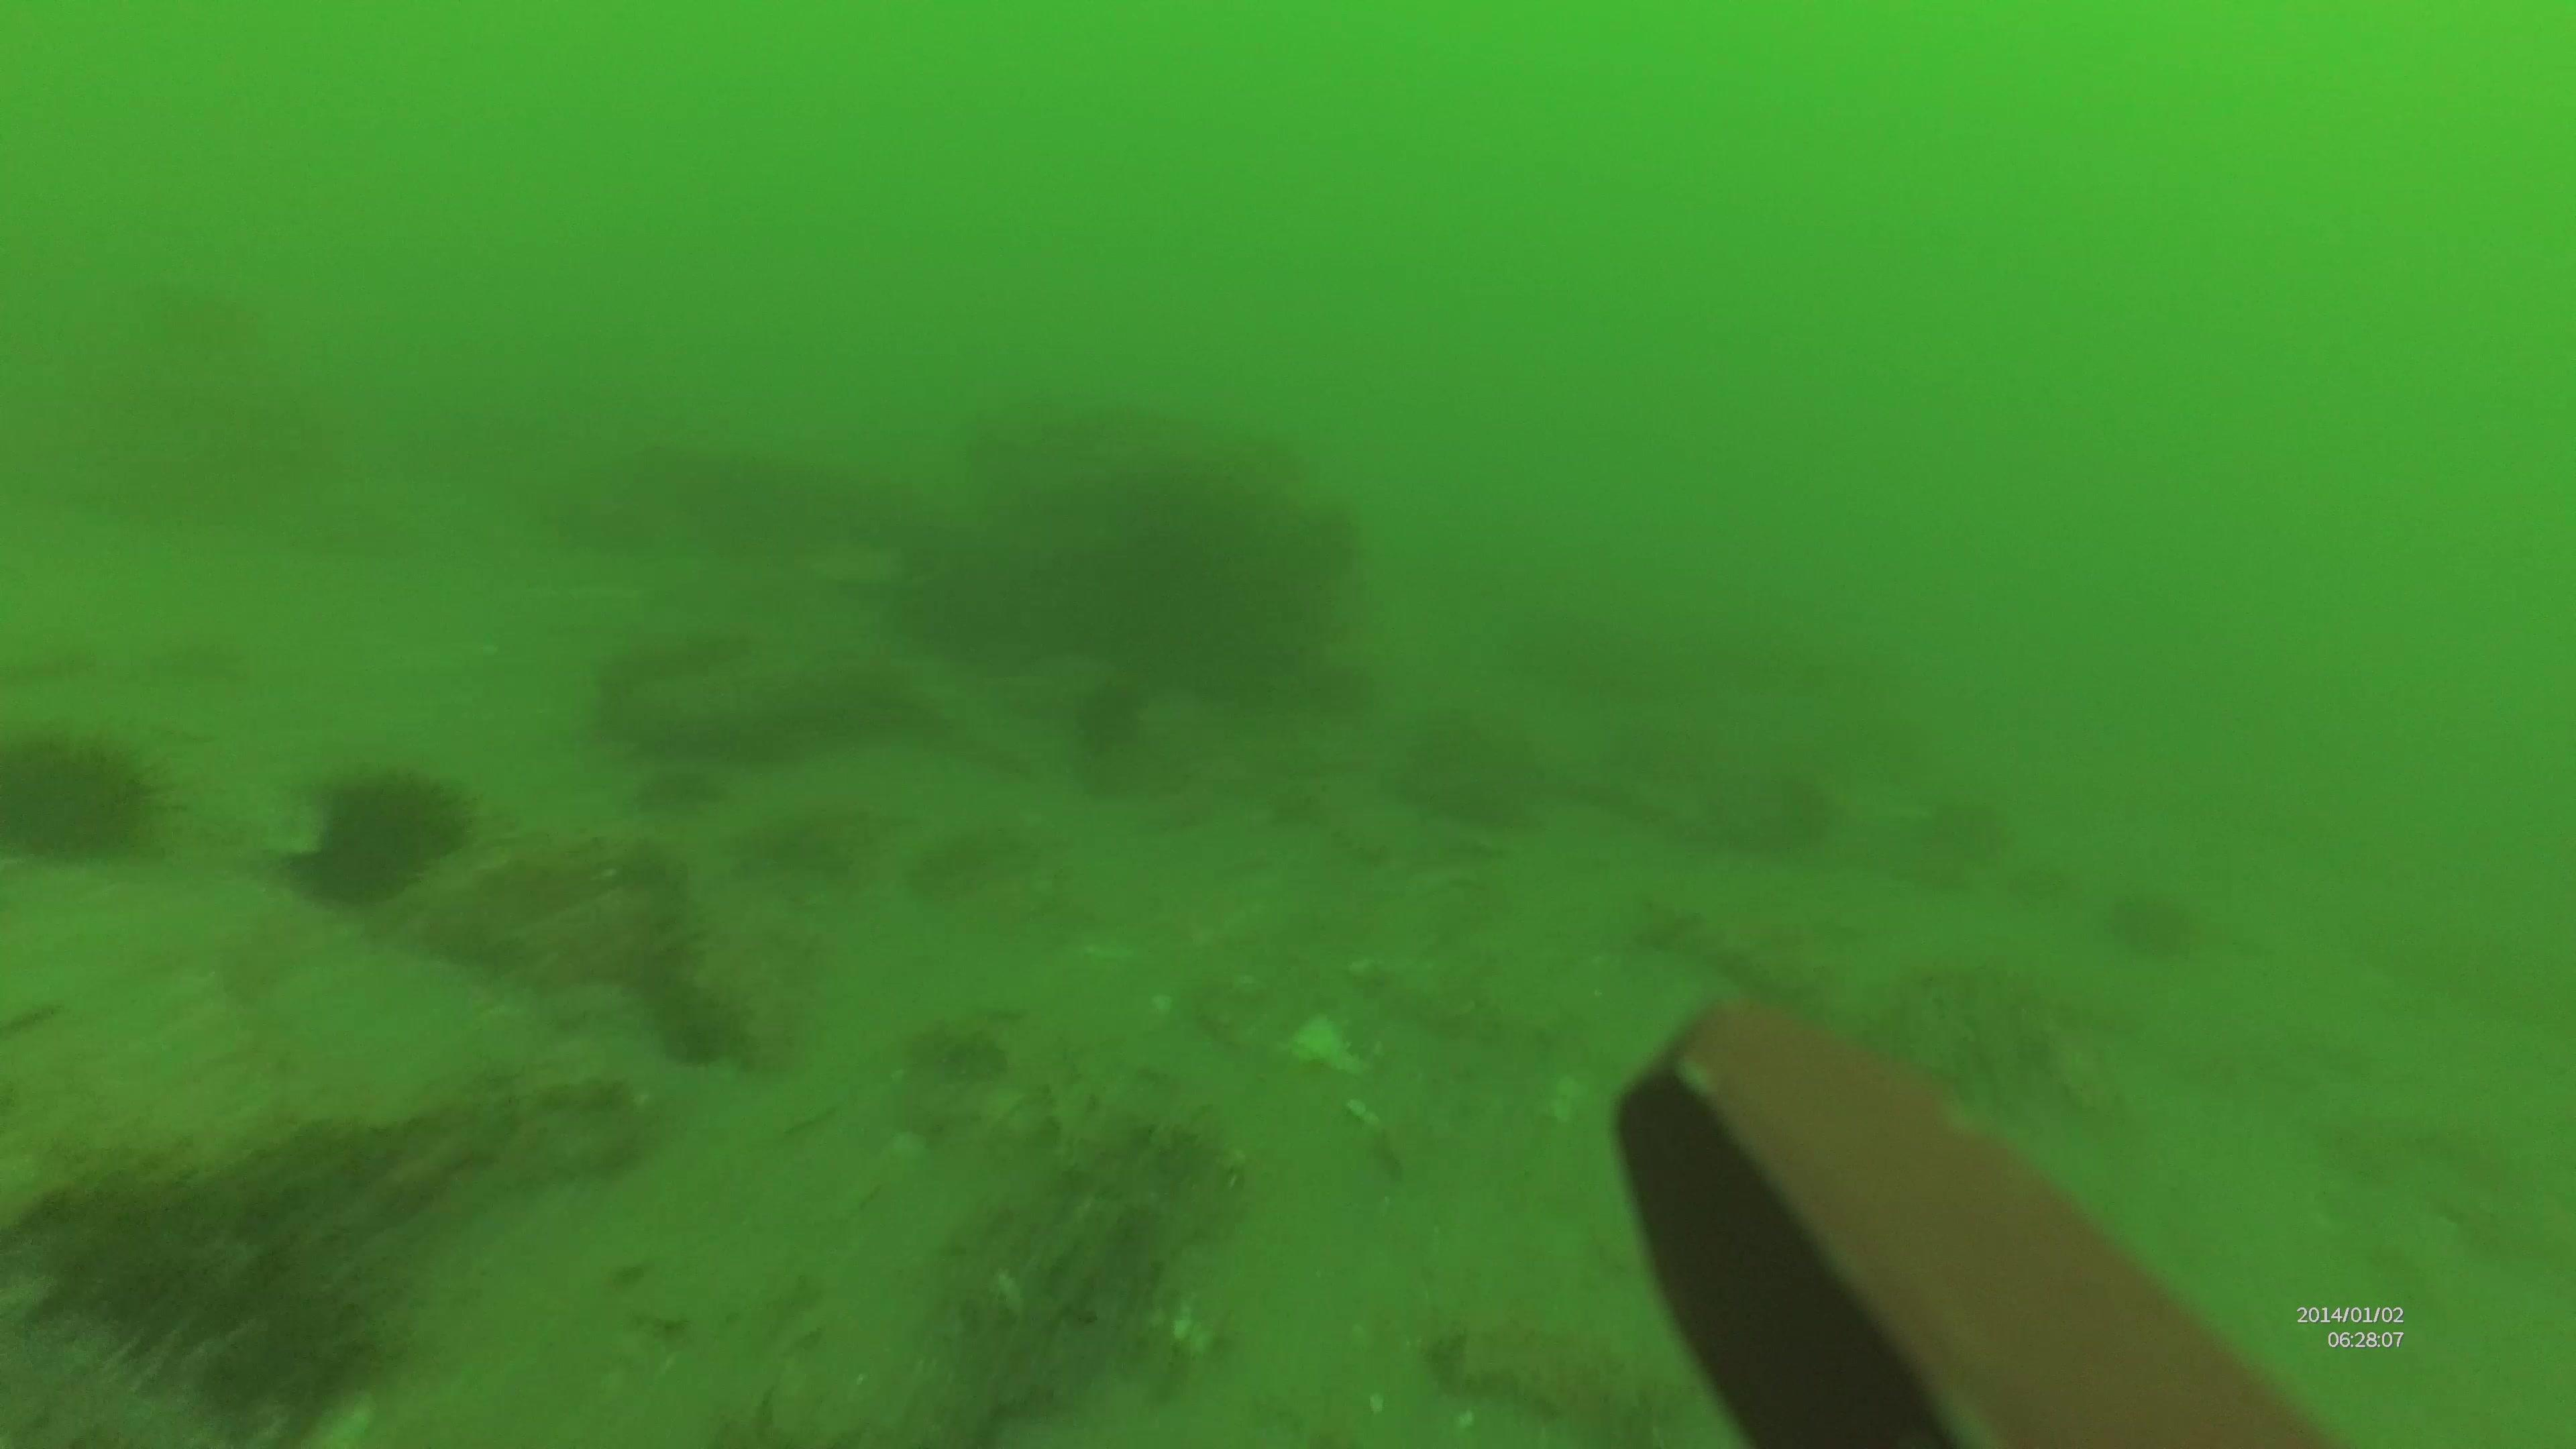echinus: (297, 775, 485, 916), (5, 725, 168, 862), (1072, 671, 1155, 754)
holothurian: (1437, 1307, 1709, 1440)
